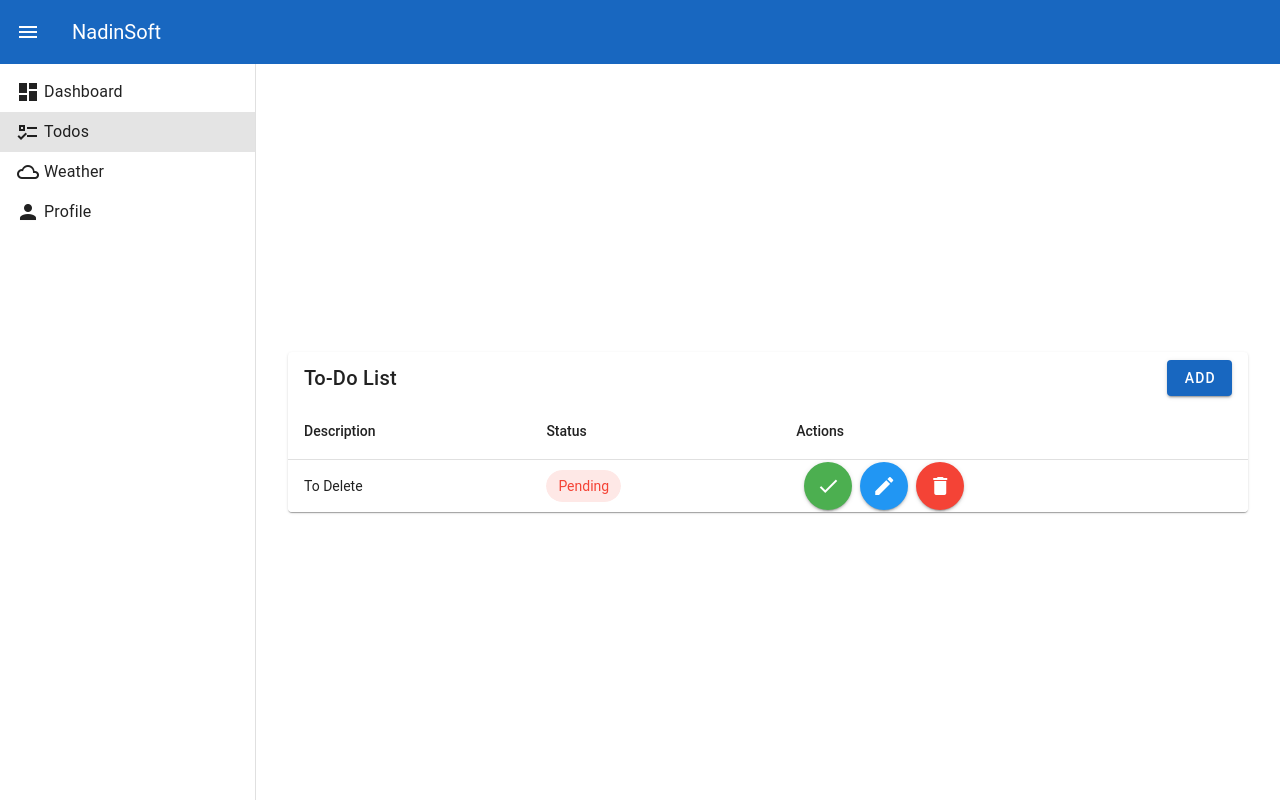
To-Do List Page › should delete a task
The image size is (1280, 800).
Click the button with test id "delete-btn". click: (940, 486)
box: [916, 462, 964, 510]
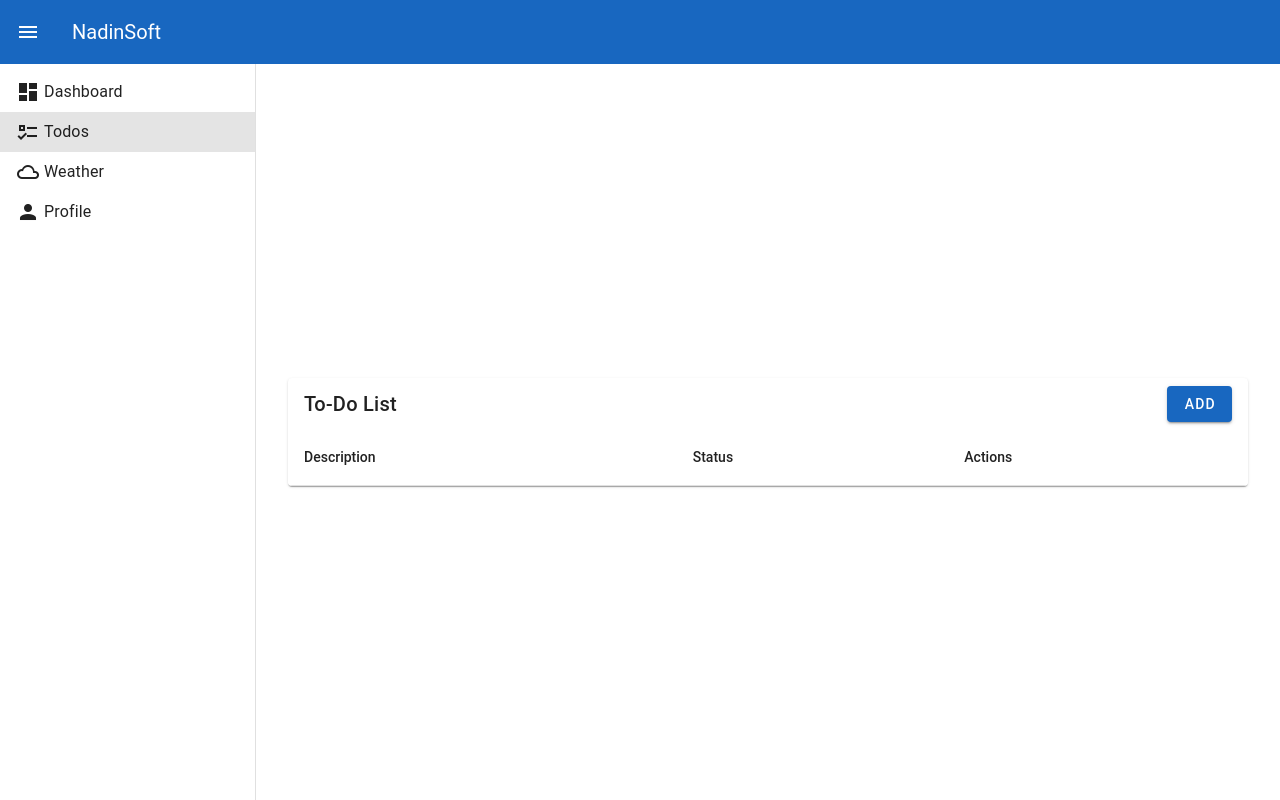
Result: the text "To Delete" is gone
